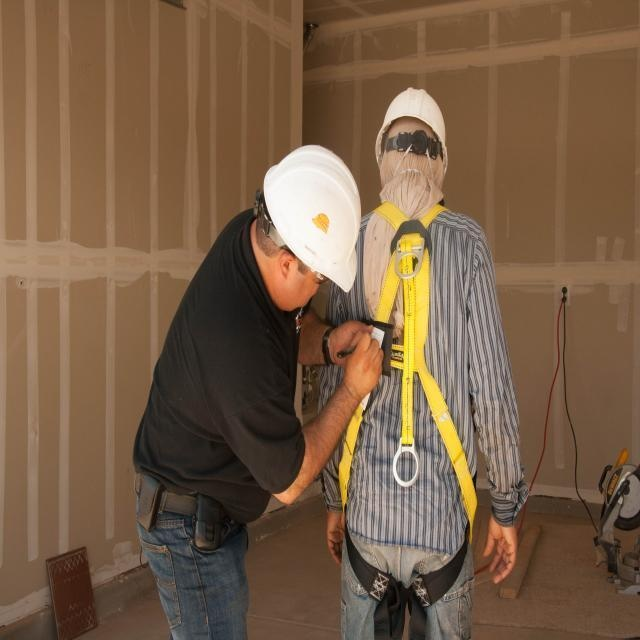Arnes_seguridad: (332, 193, 489, 610)
